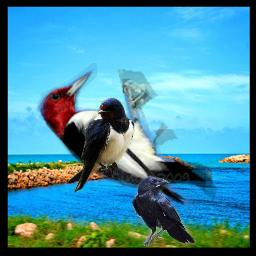Crow: (132, 176, 196, 246)
Swallow: (66, 97, 135, 194)
Woodpecker: (20, 63, 221, 214)
